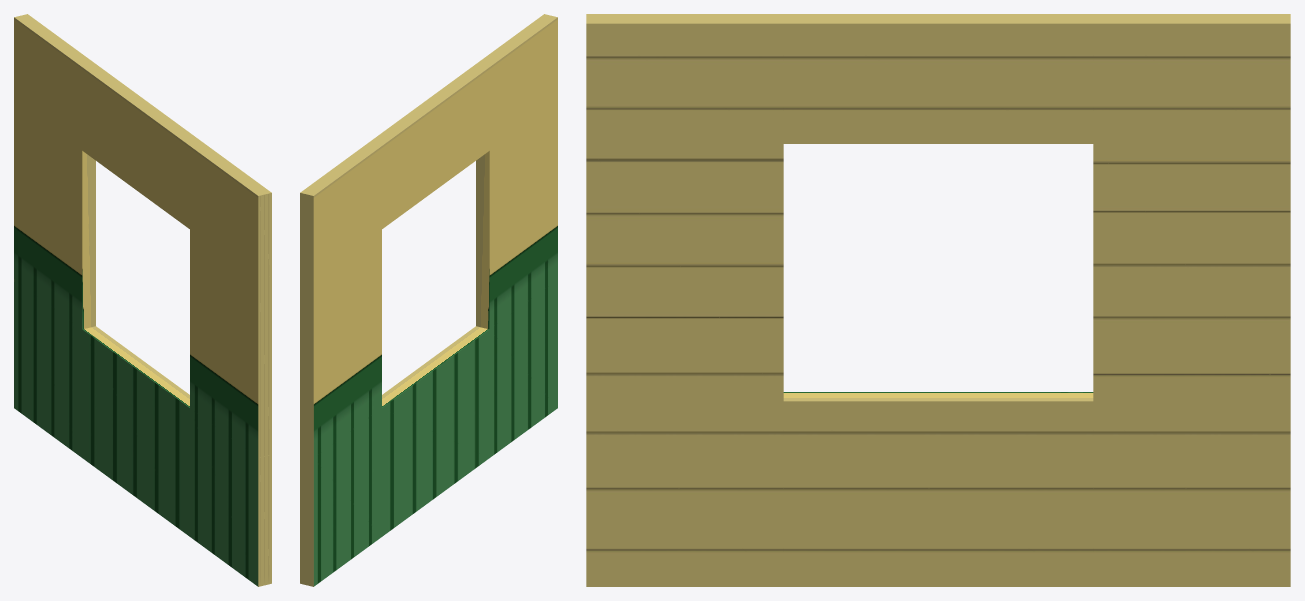
Rendered from SM_ParedConVentana.fbx.
3 renders of one model, left to right at view 1: azimuth 30°, elevation 25°; view 2: azimuth 150°, elevation 25°; view 3: azimuth 270°, elevation 25°, orthographic. The views are drawn at different scales.
Parts seen in each view (by area): view 1: Pared con ventana; view 2: Pared con ventana; view 3: Pared con ventana.
Boxes of the visible parts, bbox=[...] form: Pared con ventana: bbox=[14, 14, 271, 586]; Pared con ventana: bbox=[300, 14, 557, 586]; Pared con ventana: bbox=[586, 14, 1290, 586].
Bounding box in the file's own units: 11.27 × 311 × 353.
